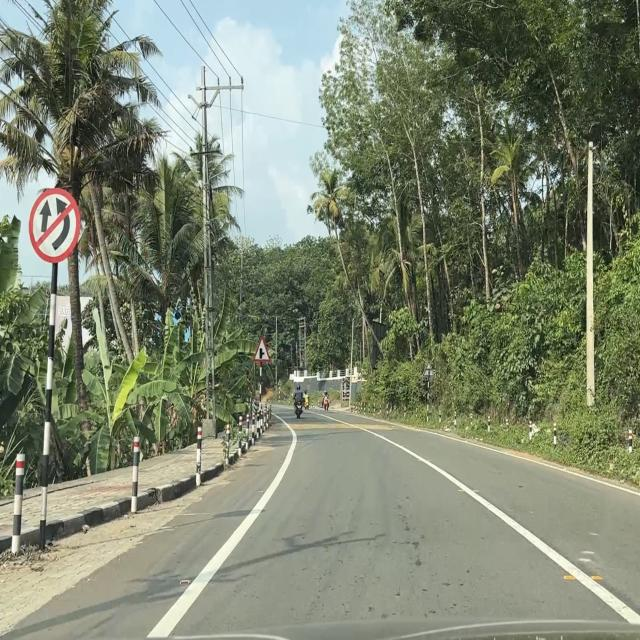OVERTAKING_PROHIBITED: (28, 188, 81, 265)
SIDE_ROAD_RIGHT: (253, 337, 271, 362)
